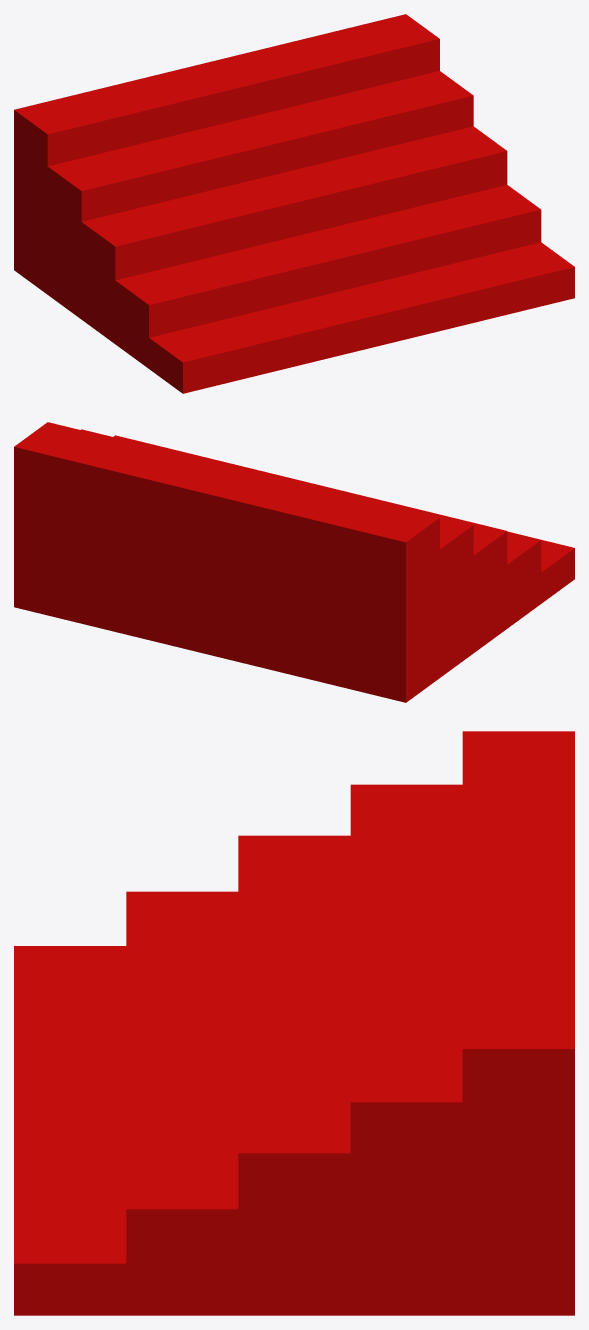
Rendered from Lava_Stairs.FBX.
3 renders of one model, top to bottom at view 1: azimuth 30°, elevation 25°; view 2: azimuth 150°, elevation 25°; view 3: azimuth 270°, elevation 25°, orthographic. The views are drawn at different scales.
Parts seen in each view (by area): view 1: Lava_Stairs; view 2: Lava_Stairs; view 3: Lava_Stairs.
Boxes of the visible parts, x1,y1,x2,y2 form: Lava_Stairs: (14,14,574,393); Lava_Stairs: (14,422,574,702); Lava_Stairs: (14,731,574,1315).
Size of the model in its own units: 59.36 by 23.21 by 44.31.
